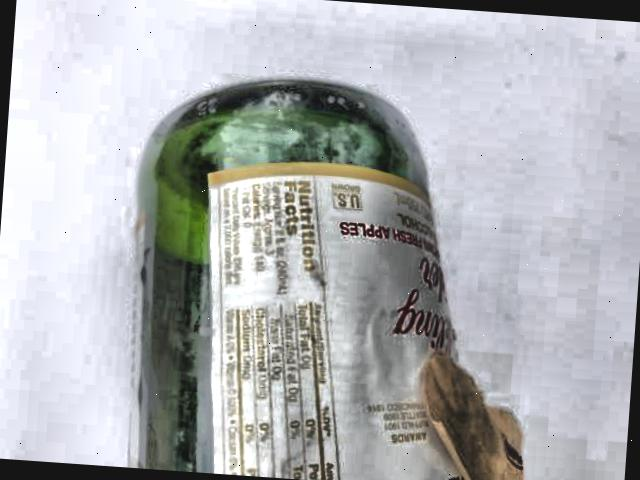Bottles: (112, 55, 576, 480)
